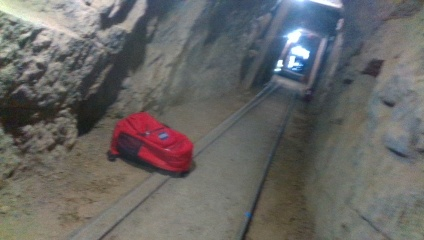backpack: (105, 111, 195, 179)
fire_extinguisher: (304, 82, 312, 103)
manikin: (273, 52, 289, 77)
